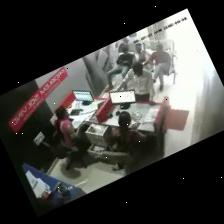person: (54, 107, 85, 168), (115, 62, 155, 105), (112, 112, 146, 159), (107, 44, 133, 89), (147, 44, 170, 91), (135, 44, 148, 63), (135, 44, 146, 63)
